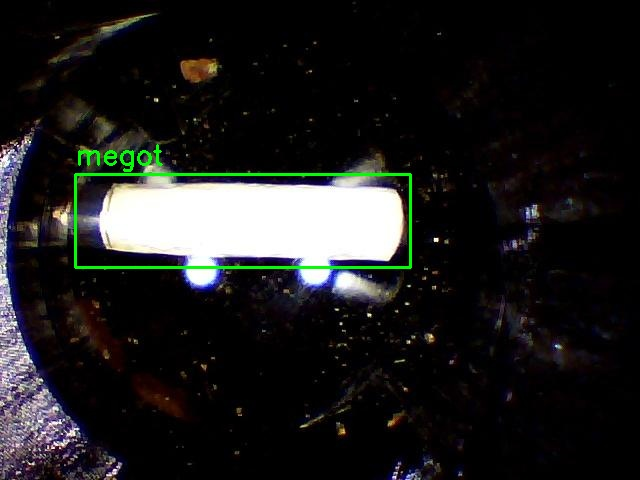megot: (75, 174, 410, 267)
